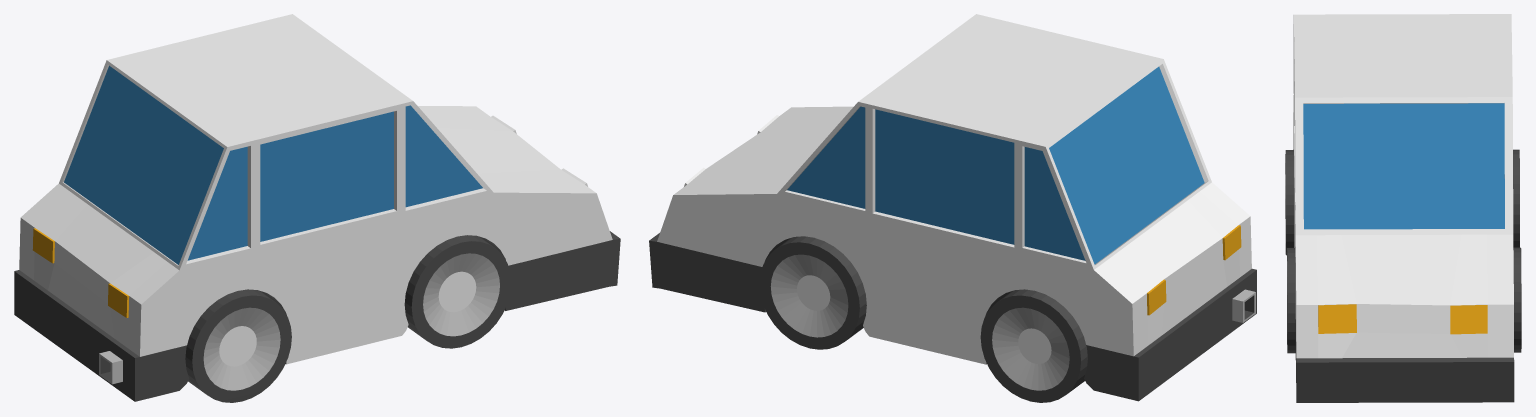
File: car_white.fbx
3 renders of one model, left to right at view 1: azimuth 30°, elevation 25°; view 2: azimuth 150°, elevation 25°; view 3: azimuth 270°, elevation 25°, orthographic. The views are drawn at different scales.
Parts seen in each view (by area): view 1: Cube.008, Cylinder.028, Cylinder.027; view 2: Cube.008, Cylinder.026, Cylinder.029; view 3: Cube.008, Cylinder.027, Cylinder.028, Cylinder.026, Cylinder.029.
Part boxes in pixels (left/top/right/bottom): Cube.008: left=14, top=14, right=620, bottom=401; Cylinder.028: left=404, top=235, right=511, bottom=348; Cylinder.027: left=185, top=289, right=291, bottom=402; Cube.008: left=649, top=14, right=1256, bottom=401; Cylinder.026: left=759, top=236, right=866, bottom=349; Cylinder.029: left=980, top=289, right=1087, bottom=402; Cube.008: left=1293, top=14, right=1514, bottom=402; Cylinder.027: left=1285, top=150, right=1294, bottom=255; Cylinder.028: left=1287, top=248, right=1295, bottom=353; Cylinder.026: left=1513, top=247, right=1521, bottom=352; Cylinder.029: left=1513, top=149, right=1519, bottom=247.
Bounding box in the file's own units: 206 × 100 × 92.59.
